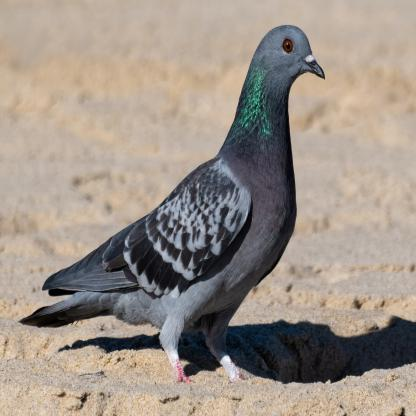Rock Pigeon: (21, 23, 326, 359)
